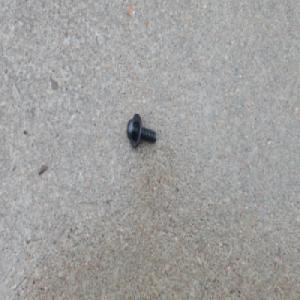BoltWasher: (126, 112, 156, 149)
